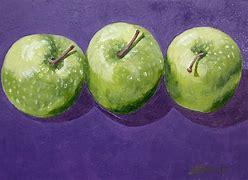apple: (79, 33, 164, 118), (169, 30, 243, 118), (4, 39, 80, 115)
